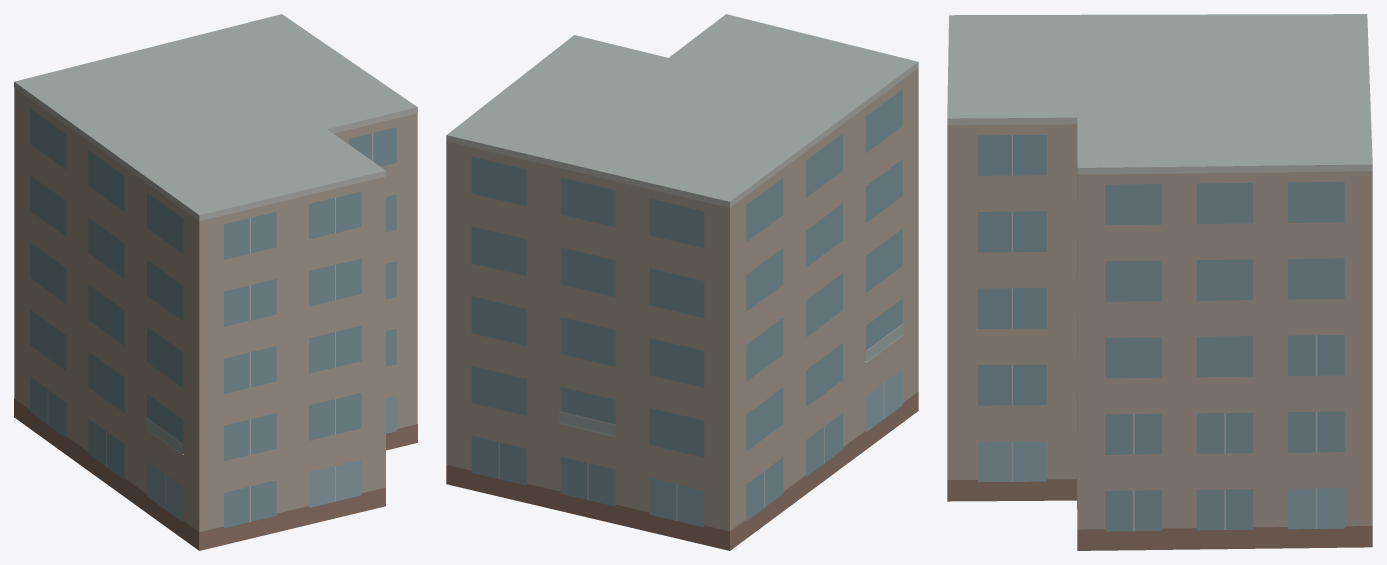
Rendered from survey-upis-32760812.glb.
3 views of the same model, side by side, from view 1: azimuth 30°, elevation 25°; view 2: azimuth 150°, elevation 25°; view 3: azimuth 270°, elevation 25° (orthographic). The views are drawn at different scales.
Visible parts, largest first — view 1: survey-upis-32760812.tmp; view 2: survey-upis-32760812.tmp; view 3: survey-upis-32760812.tmp.
Part boxes in pixels (x1,y1,x2,y2): survey-upis-32760812.tmp: (14,14,417,550); survey-upis-32760812.tmp: (446,14,918,550); survey-upis-32760812.tmp: (947,14,1372,550).
Bounding box in the file's own units: 12 × 13.9 × 14.01.
